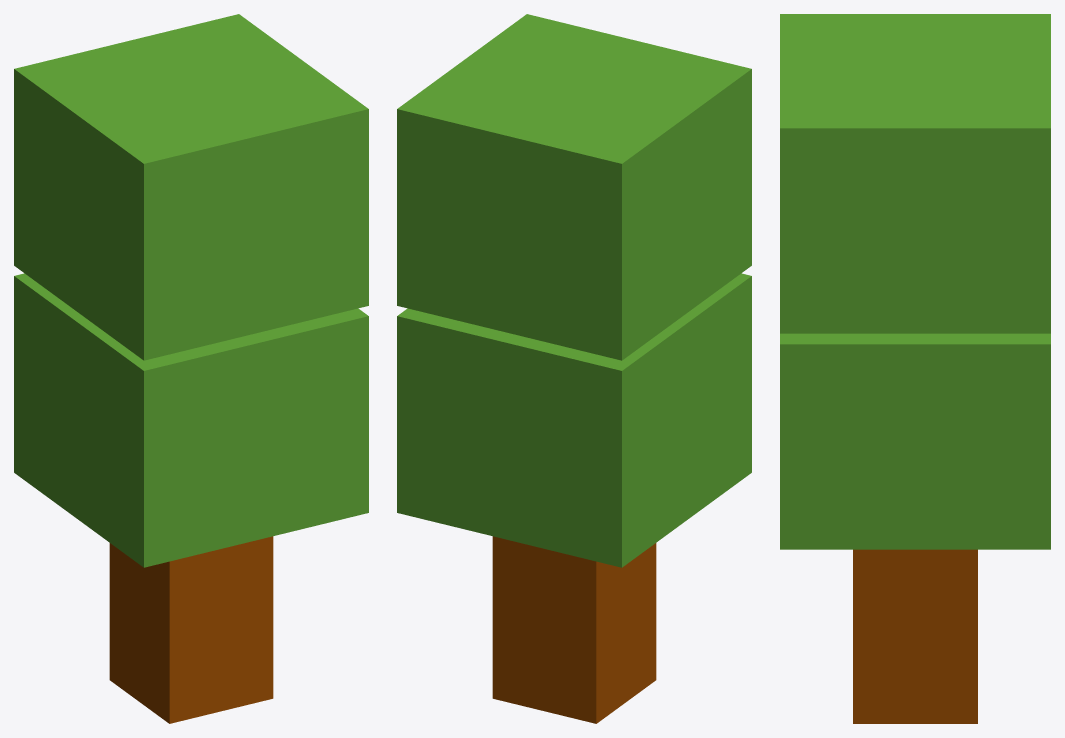
Rendered from Tree.fbx.
3 views of the same model, side by side, from view 1: azimuth 30°, elevation 25°; view 2: azimuth 150°, elevation 25°; view 3: azimuth 270°, elevation 25° (orthographic). The views are drawn at different scales.
Parts seen in each view (by area): view 1: Cube.002; view 2: Cube.002; view 3: Cube.002.
Part boxes in pixels (x1=…): Cube.002: x1=14, y1=14, x2=368, y2=723; Cube.002: x1=397, y1=14, x2=751, y2=723; Cube.002: x1=780, y1=14, x2=1050, y2=723.
Bounding box in the file's own units: 130 × 331 × 130.
